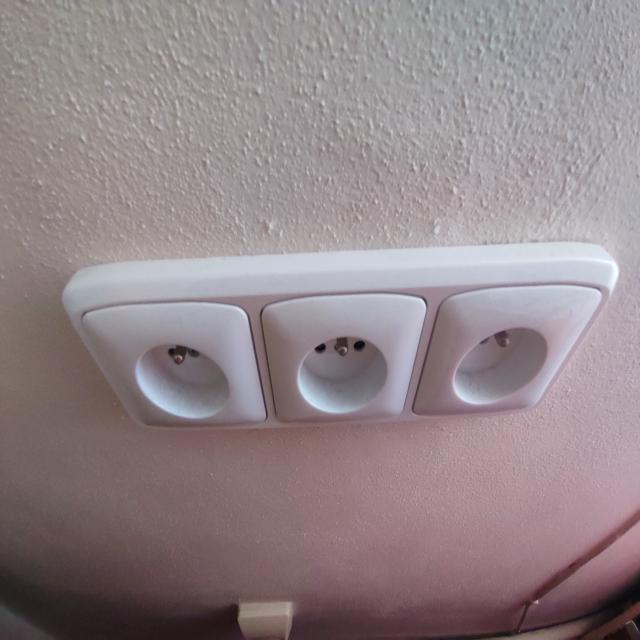house plug: (120, 319, 245, 427), (440, 315, 570, 410), (285, 319, 393, 418)
